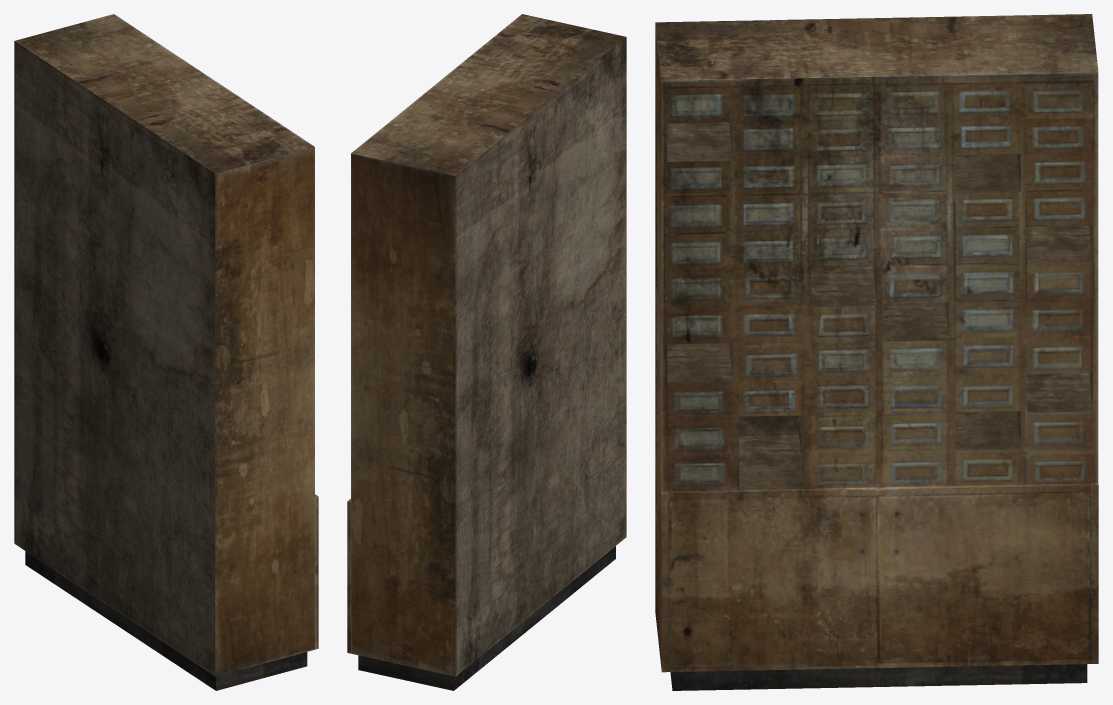
The model's file is Skaff.fbx.
3 views of the same model, side by side, from view 1: azimuth 30°, elevation 25°; view 2: azimuth 150°, elevation 25°; view 3: azimuth 270°, elevation 25° (orthographic). The views are drawn at different scales.
Parts seen in each view (by area): view 1: mesh_0.1491; view 2: mesh_0.1491; view 3: mesh_0.1491.
Boxes of the visible parts, <box> form: mesh_0.1491: <box>14,14,318,690</box>; mesh_0.1491: <box>347,14,626,690</box>; mesh_0.1491: <box>655,14,1098,690</box>.
Bounding box in the file's own units: 0.4734 × 1.96 × 1.29.
